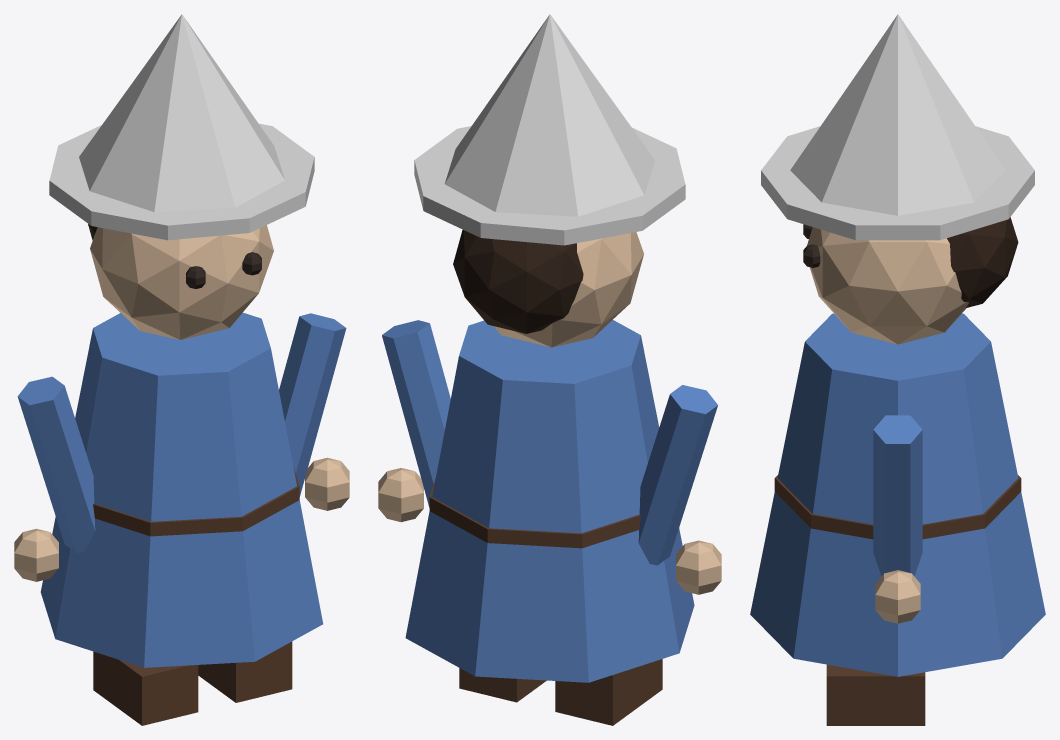
The model's file is villager_2.glb.
3 renders of one model, left to right at view 1: azimuth 30°, elevation 25°; view 2: azimuth 150°, elevation 25°; view 3: azimuth 270°, elevation 25°, orthographic. The views are drawn at different scales.
Parts seen in each view (by area): view 1: villager_2; view 2: villager_2; view 3: villager_2.
Boxes of the visible parts, x1,y1,x2,y2 form: villager_2: (14, 14, 349, 725); villager_2: (378, 14, 721, 725); villager_2: (750, 14, 1045, 725).
Size of the model in its own units: 0.6078 by 1.16 by 0.459.
